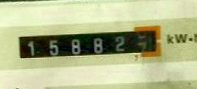1: (26, 38, 36, 57)
2: (114, 34, 125, 51)
5: (47, 38, 59, 55)
7: (136, 39, 147, 53)
8: (70, 37, 81, 54), (93, 36, 103, 52)
screen: (11, 22, 167, 63)
